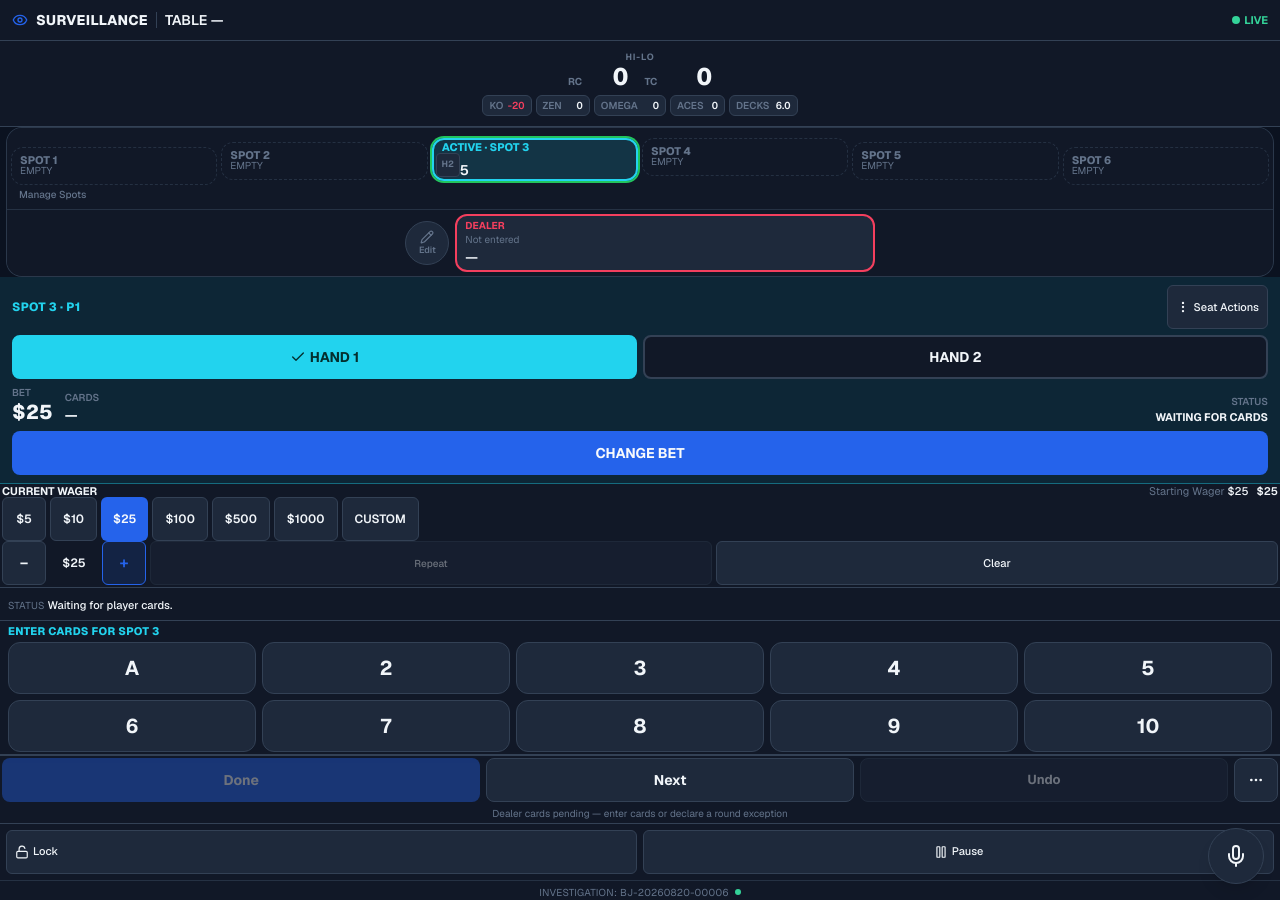
Test: Split-hand UX — a split seat clearly shows both hands › selecting HAND 1 (after having moved to Hand 2) correctly re-targets Hand 1
Click the button with test id "select-hand-2" at x=956, y=357, box [643,335,1268,379]
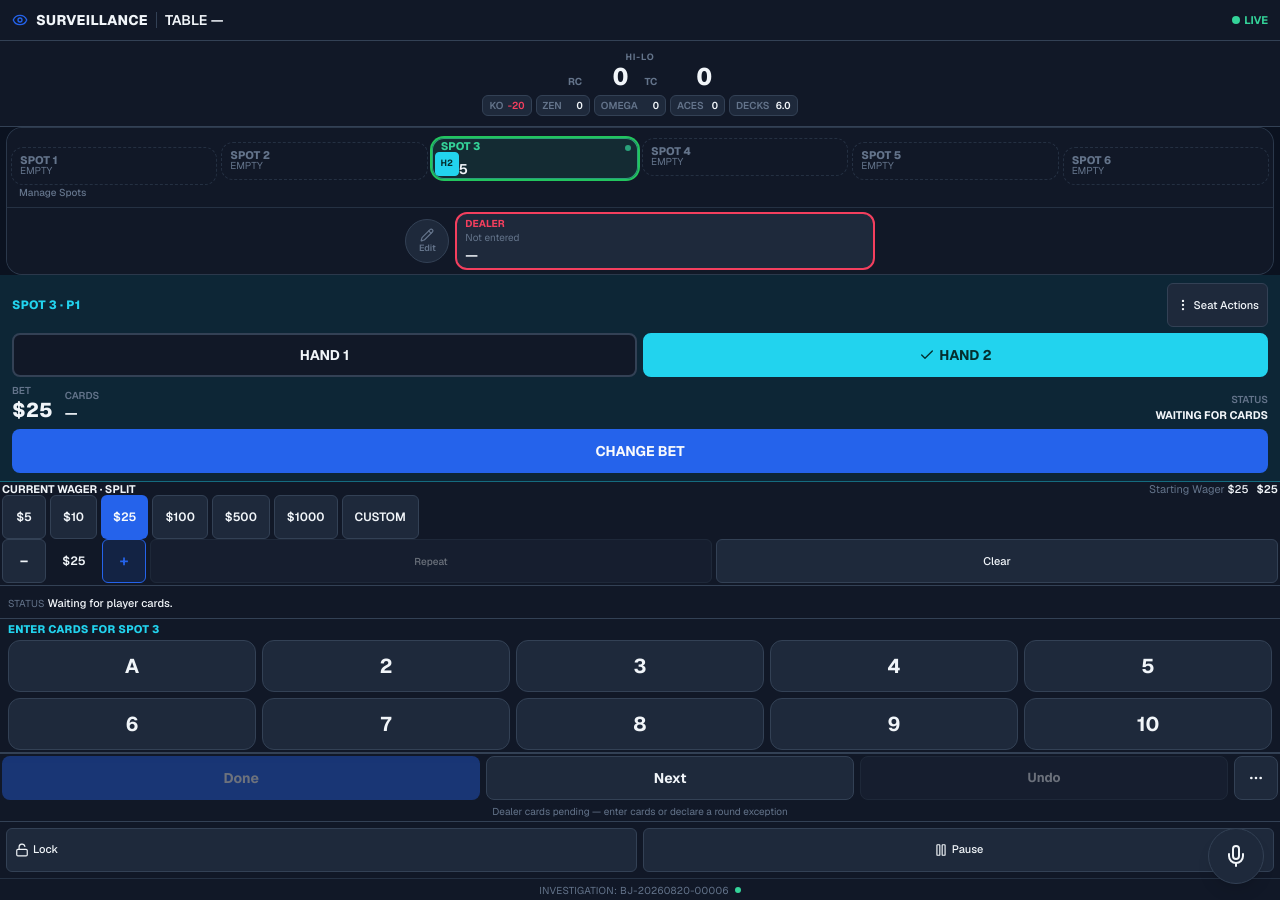
Check: the button with test id "select-hand-2" is pressed, box [643,333,1268,377]
Click the button with test id "select-hand-1" at x=324, y=355, box [12,333,637,377]
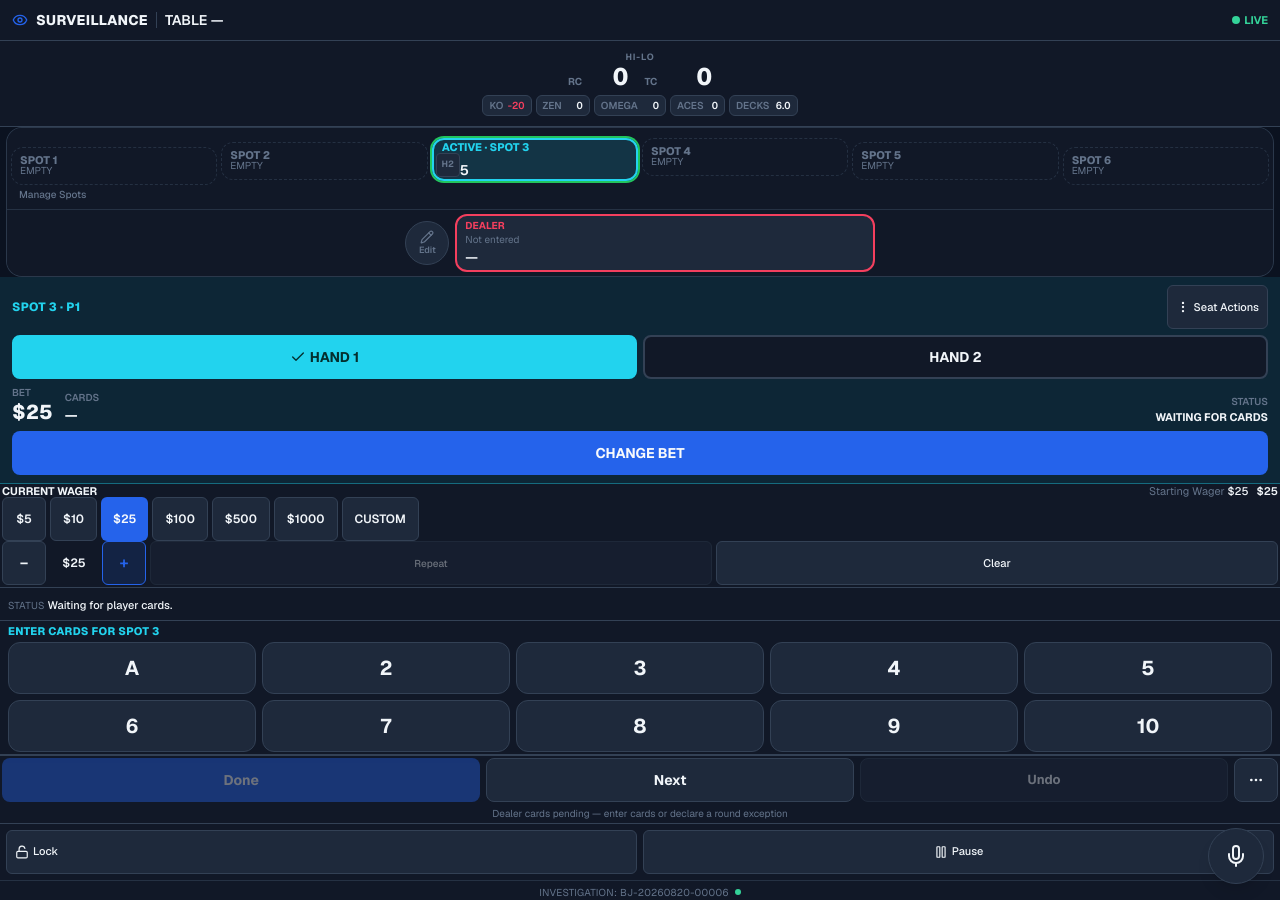
Check: the button with test id "select-hand-1" is pressed, box [12,335,637,379]
Check: the button with test id "select-hand-2" is not pressed, box [643,335,1268,379]
Click the button with test id "change-bet-button" at x=640, y=453, box [12,431,1268,475]
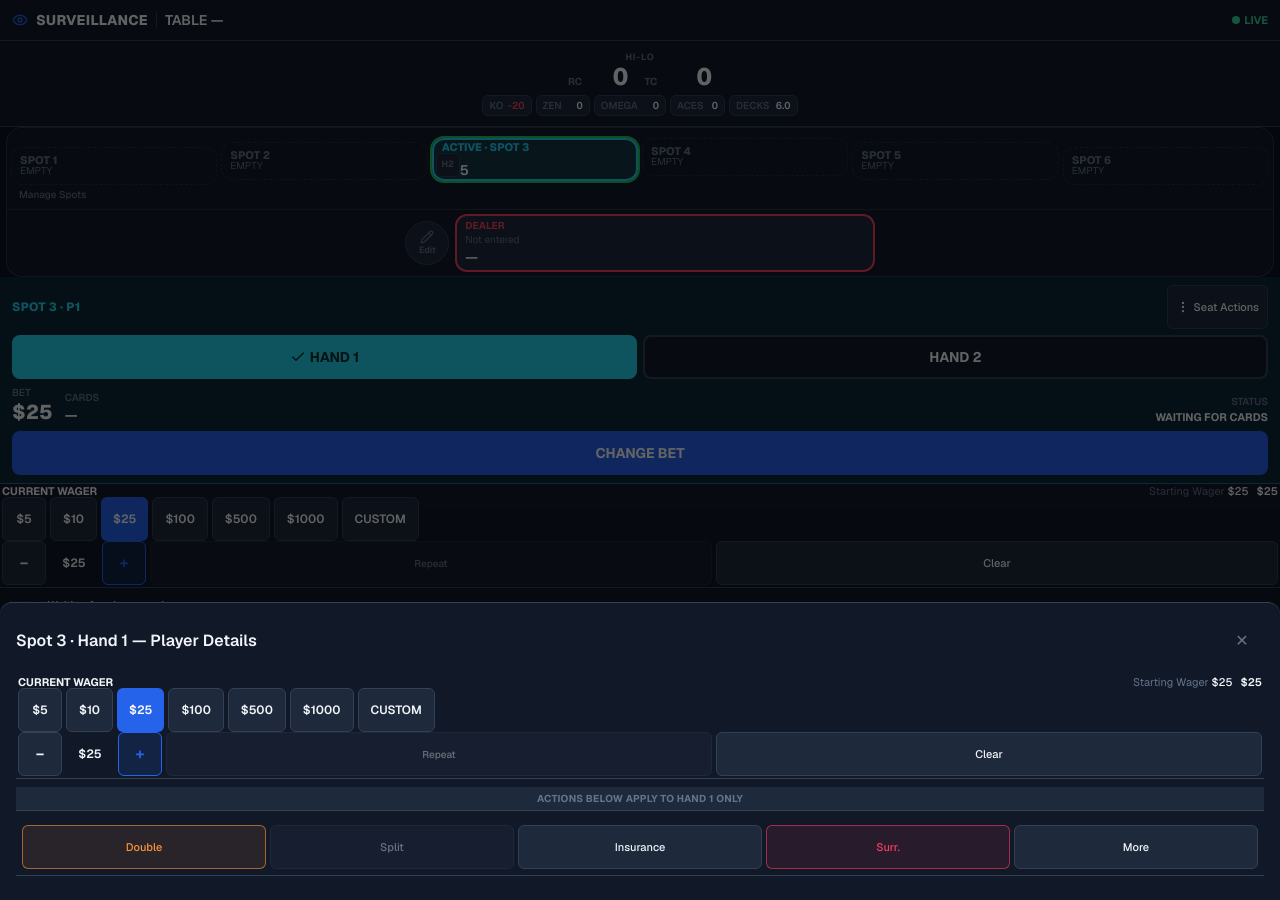
Check: the dialog "Spot 3 · Hand 1 — Player Details" is shown, box [0,602,1279,899]
